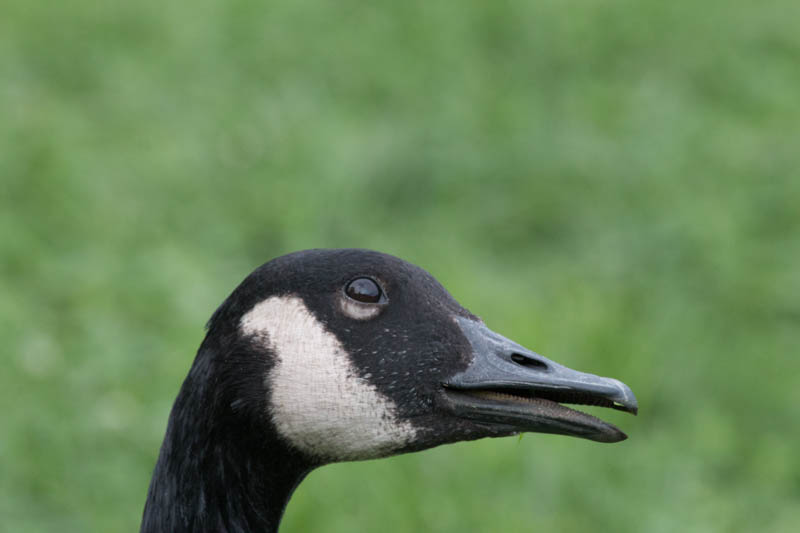goose-head: (189, 250, 637, 464)
